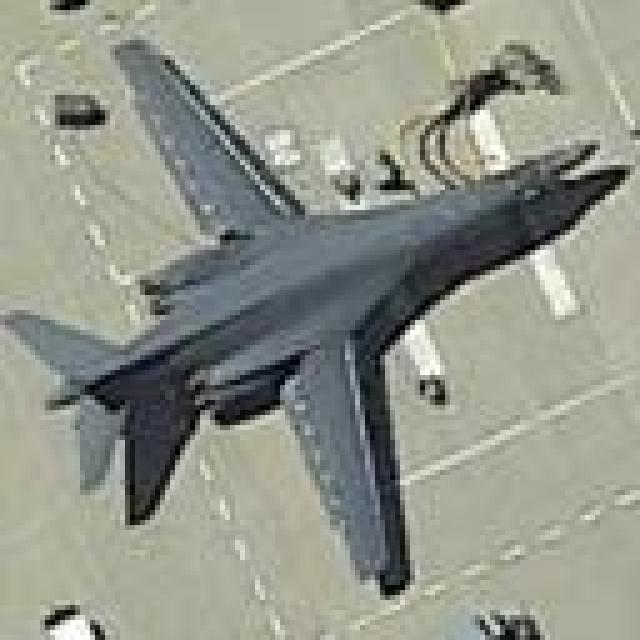B-1_TopDown: (0, 25, 630, 595)
